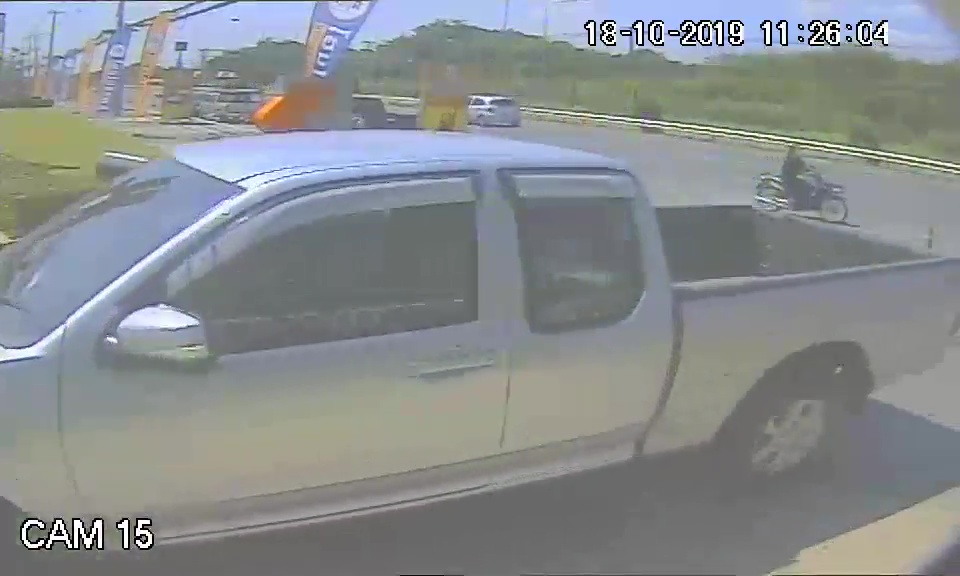pickup: (5, 127, 740, 525)
